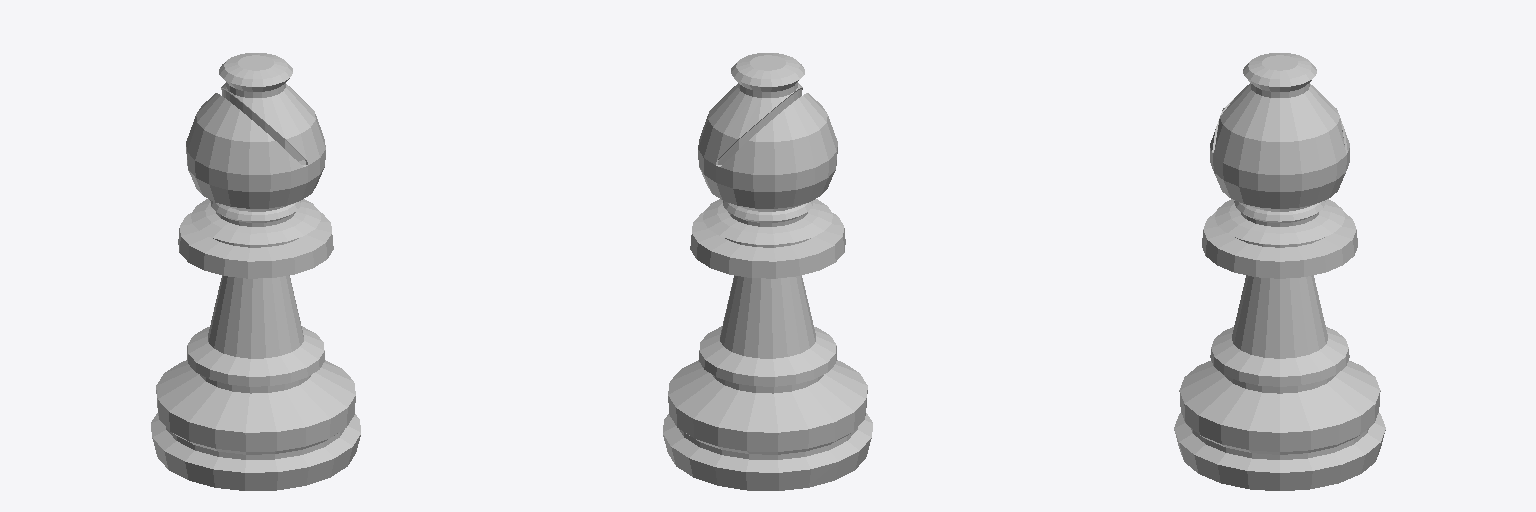
Rendered from whiteBishop.obj.
3 renders of one model, left to right at view 1: azimuth 30°, elevation 25°; view 2: azimuth 150°, elevation 25°; view 3: azimuth 270°, elevation 25°, orthographic.
Visible parts, largest first — view 1: pCylinder11; view 2: pCylinder11; view 3: pCylinder11.
Boxes of the visible parts, <box> form: pCylinder11: <box>151,53,360,490</box>; pCylinder11: <box>663,53,872,490</box>; pCylinder11: <box>1174,53,1385,490</box>.
Bounding box in the file's own units: 0.9482 × 1.9 × 0.9482.